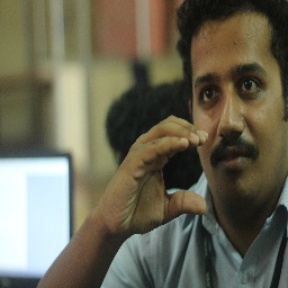C: (121, 116, 220, 232)
